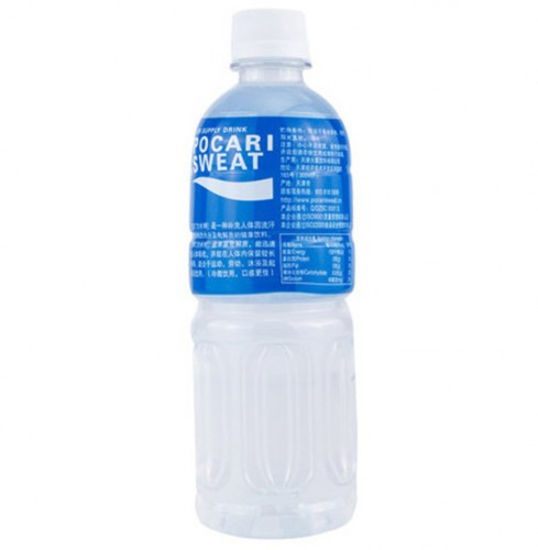POCARI SWEAT: (187, 9, 354, 540)
